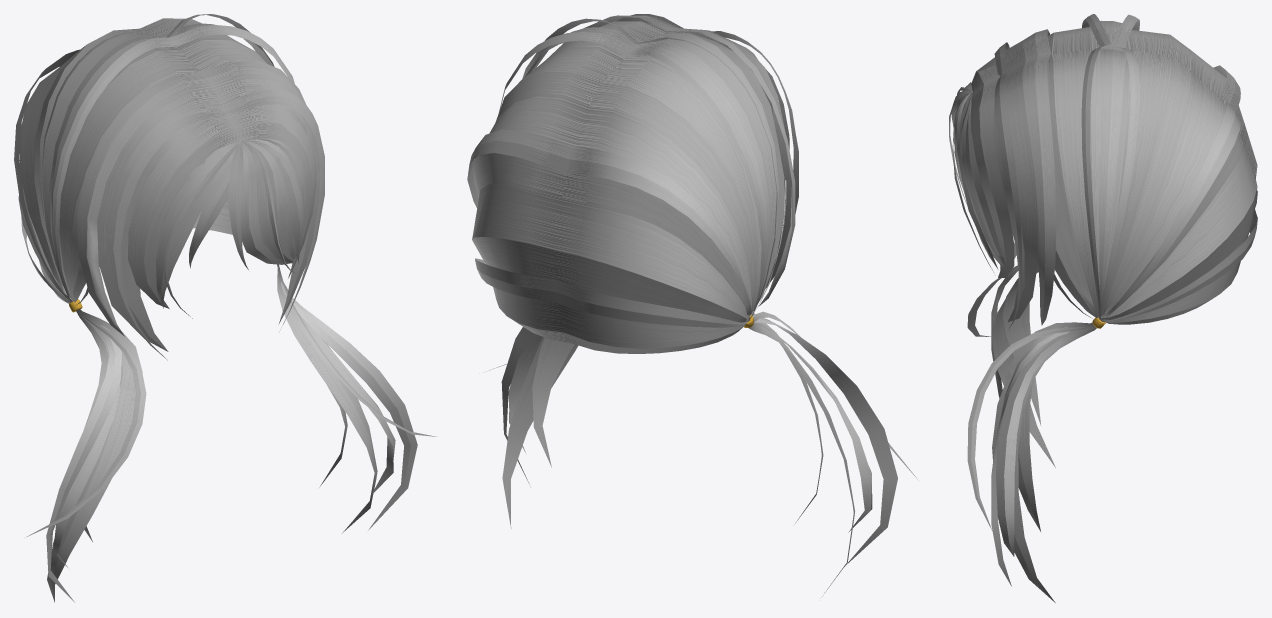
3 renders of one model, left to right at view 1: azimuth 30°, elevation 25°; view 2: azimuth 150°, elevation 25°; view 3: azimuth 270°, elevation 25°, orthographic. The views are drawn at different scales.
Visible parts, largest first — view 1: Hair; view 2: Hair; view 3: Hair.
Part boxes in pixels (bbox=[...]): Hair: bbox=[14, 14, 436, 602]; Hair: bbox=[467, 14, 918, 596]; Hair: bbox=[949, 14, 1257, 602].
Size of the model in its own units: 2.47 by 2.95 by 1.65.
Materials: 2 (1 with a texture image).
